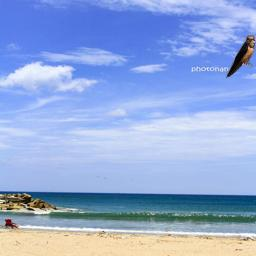Swallow: (226, 35, 255, 79)
